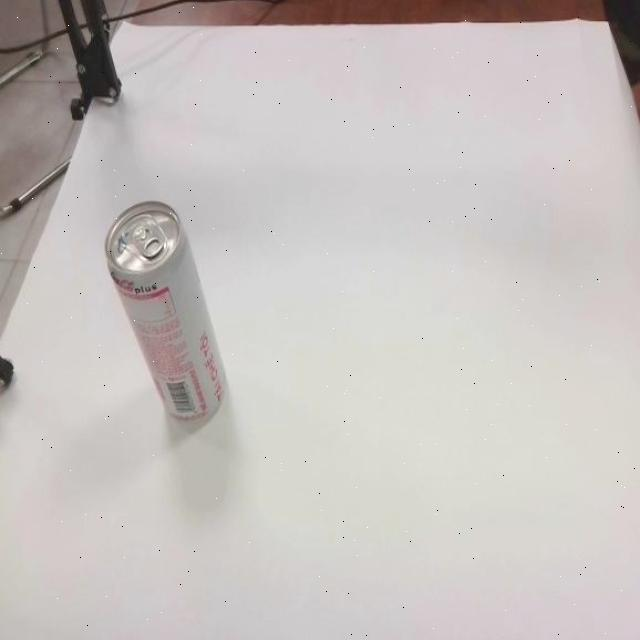debris: (103, 200, 227, 448)
